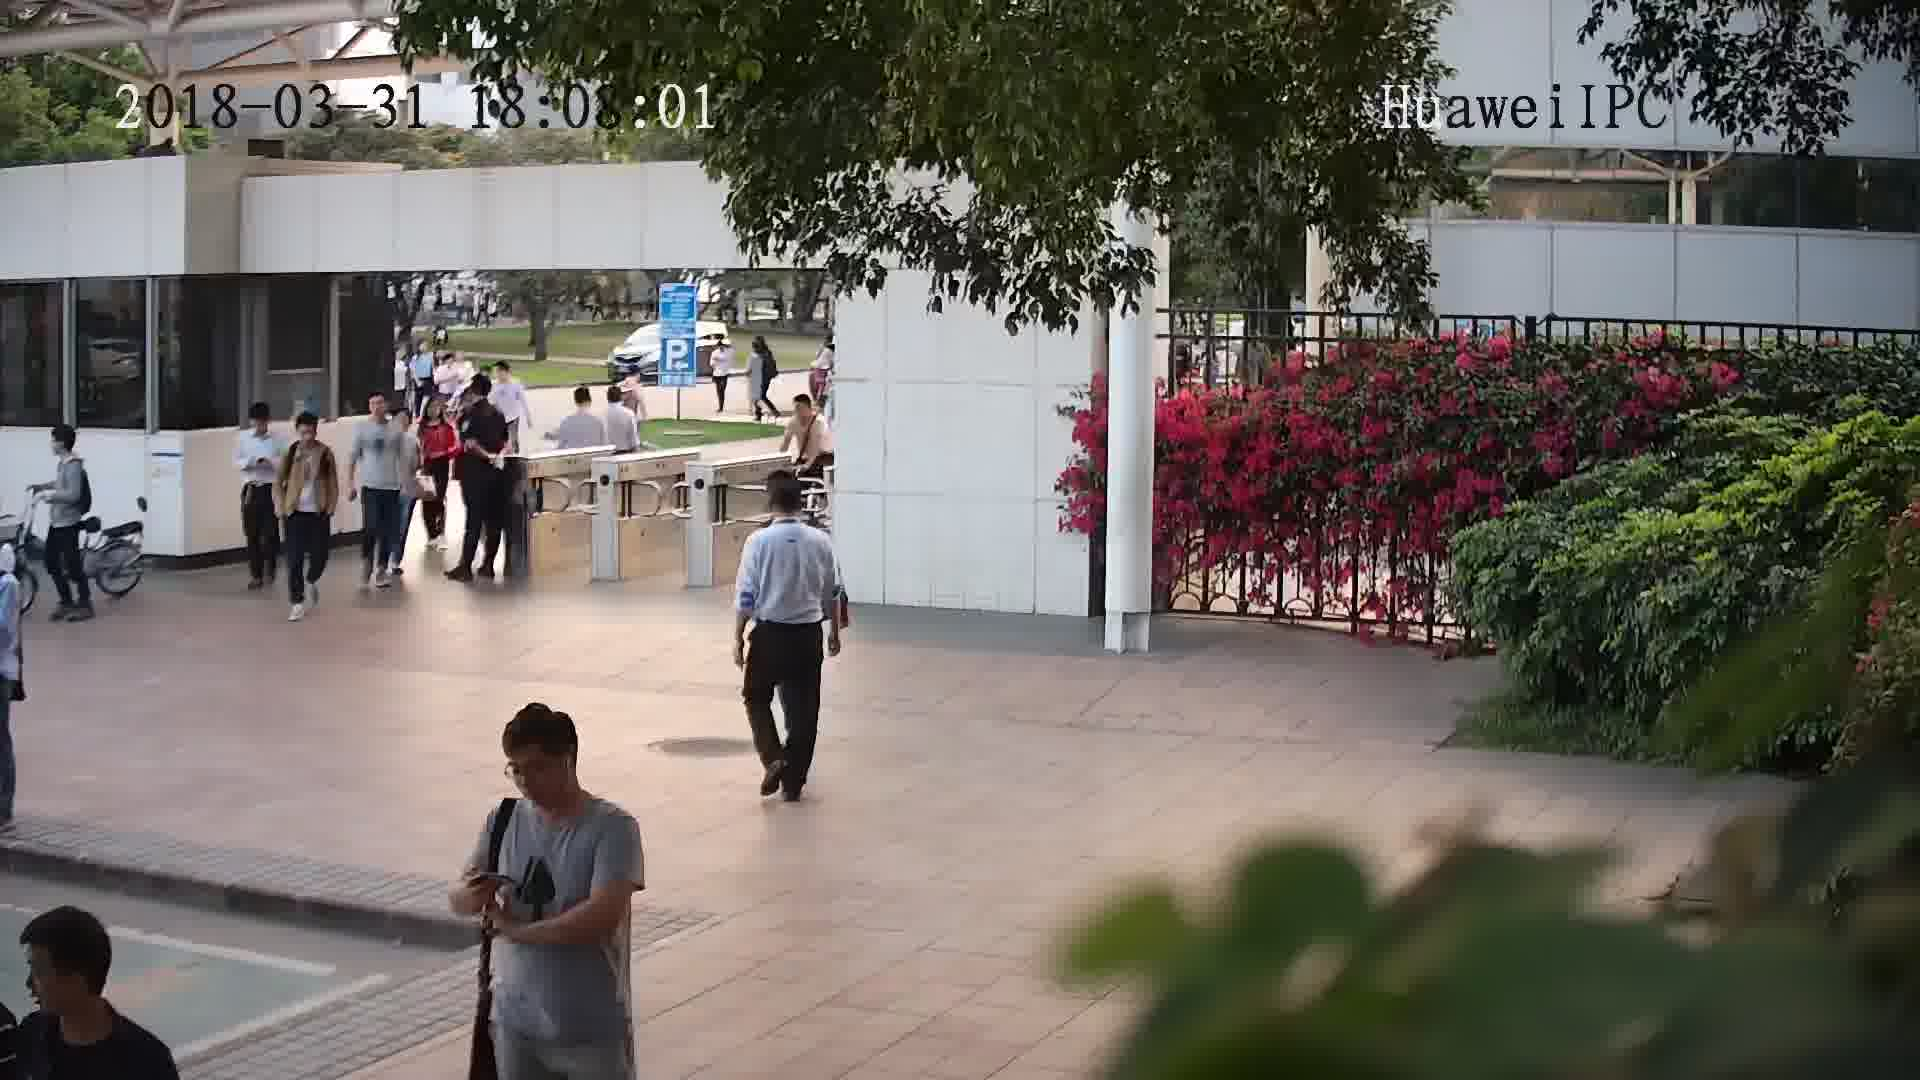face: (504, 744, 567, 807)
person: (8, 901, 178, 1078), (483, 700, 634, 849), (745, 474, 835, 557), (455, 374, 509, 437), (281, 404, 337, 460), (356, 394, 413, 447), (47, 421, 91, 480), (238, 397, 284, 452), (596, 381, 646, 428), (560, 383, 605, 431), (785, 390, 831, 433), (413, 390, 454, 434), (492, 357, 529, 403), (410, 336, 439, 364), (708, 336, 736, 361)
